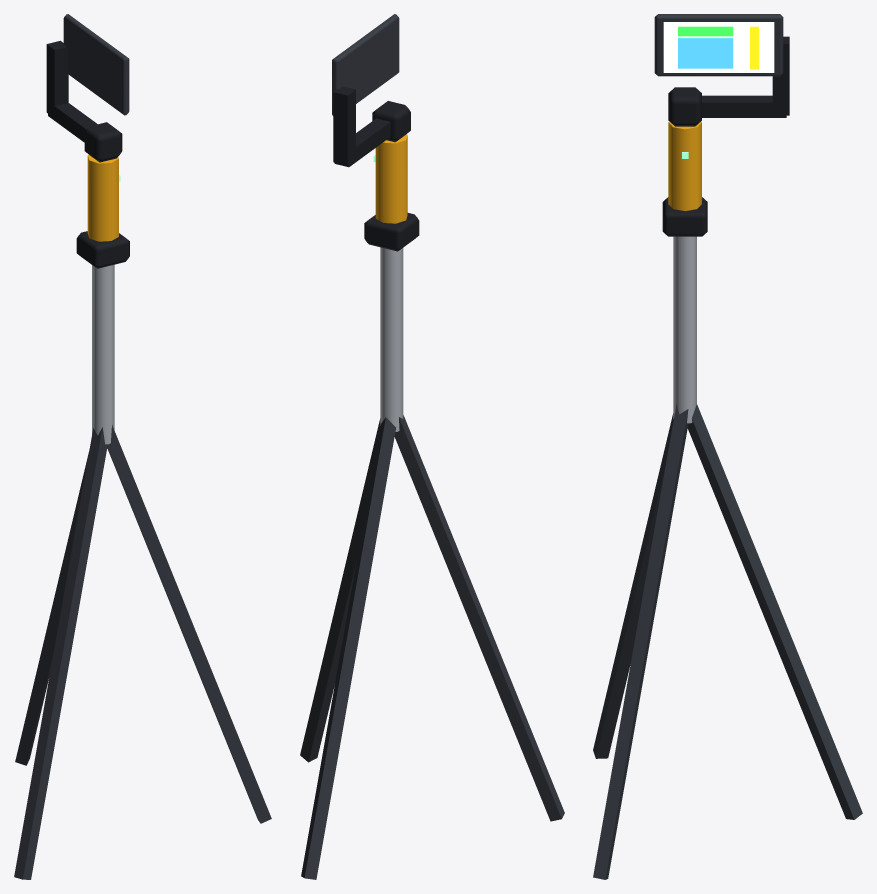
Rendered from station_buffer_ausstattung_1_2.glb.
3 renders of one model, left to right at view 1: azimuth 30°, elevation 25°; view 2: azimuth 150°, elevation 25°; view 3: azimuth 270°, elevation 25°, orthographic. The views are drawn at different scales.
Visible parts, largest first — view 1: station_buffer_ausstattung_1_2; view 2: station_buffer_ausstattung_1_2; view 3: station_buffer_ausstattung_1_2.
Part boxes in pixels (x1,y1,x2,y2): station_buffer_ausstattung_1_2: (14,14,271,879); station_buffer_ausstattung_1_2: (300,14,564,879); station_buffer_ausstattung_1_2: (593,14,862,879).
Size of the model in its own units: 0.5465 by 1.58 by 0.4785.
